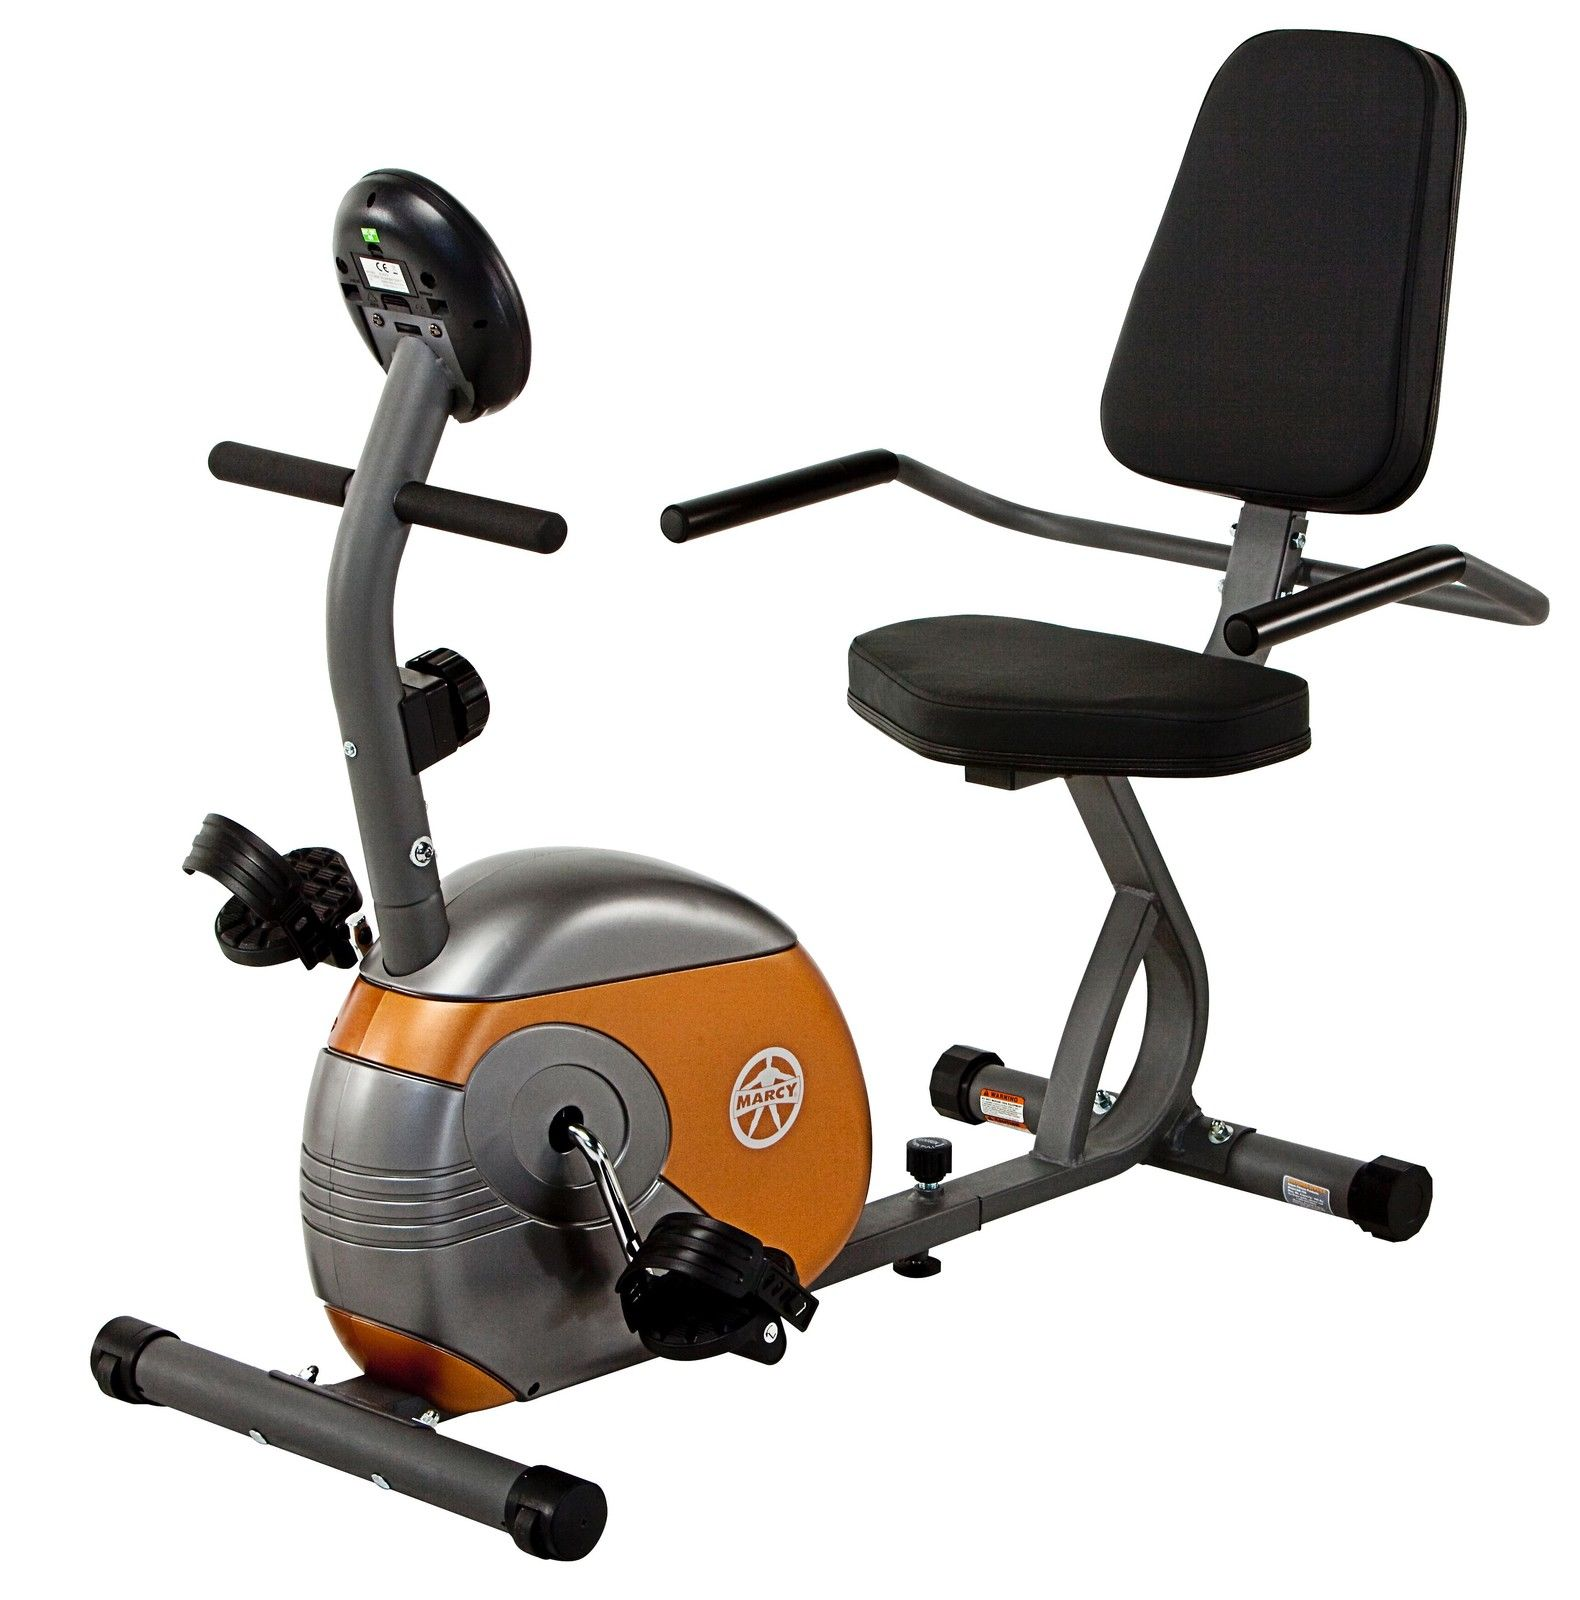gym_bike: (94, 22, 1555, 1561)
